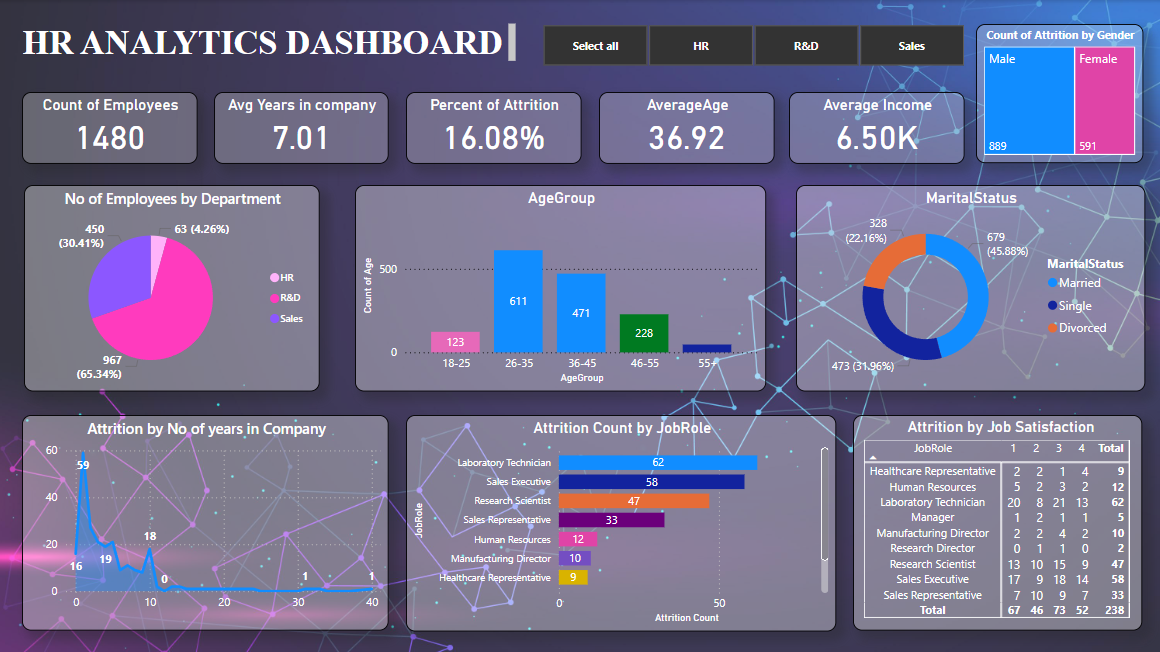

What the dashboard file says about the page in this screenshot:
{"tool":"powerbi","page":{"name":"Page 1","canvas":[1280,720],"ordinal":0},"visuals":[{"type":"textbox","box":[21.1,21.2,552.5,51.6],"z":0},{"type":"slicer","fields":{"Values":["Worksheet.Department"]},"box":[573.2,20.8,511.6,58],"z":1000},{"type":"card","title":"Avg Years in company ","fields":{"Values":["Avg(Worksheet.YearsAtCompany)"]},"box":[236.8,100.6,191.9,78.9],"z":2000},{"type":"card","title":"Percent of Attrition ","fields":{"Values":["Avg(Worksheet.Boolean attrition - Copy)"]},"box":[447.7,100.6,192.8,78.9],"z":3000},{"type":"card","title":"AverageAge ","fields":{"Values":["Avg(Worksheet.Age)"]},"box":[659.5,100.6,192.8,78.9],"z":4000},{"type":"card","title":"Average Income","fields":{"Values":["Avg(Worksheet.MonthlyIncome)"]},"box":[868.3,100.6,192.8,78.9],"z":5000},{"type":"card","title":"Count of Employees","fields":{"Values":["CountNonNull(Worksheet.EmpID)"]},"box":[25,100.6,192.8,78.9],"z":6000},{"type":"treemap","fields":{"Values":["CountNonNull(Worksheet.Attrition)"],"Group":["Worksheet.Gender"]},"box":[1073.8,26.6,183.5,152.5],"z":7000},{"type":"pieChart","title":"No of Employees by Department","fields":{"Series":["Worksheet.Department"],"Y":["CountNonNull(Worksheet.EmpID)"]},"box":[27.5,203.1,324.5,227],"z":8000},{"type":"columnChart","title":"AgeGroup","fields":{"Category":["Worksheet.AgeGroup"],"Series":["Worksheet.AgeGroup"],"Y":["CountNonNull(Worksheet.Age)"]},"box":[391,203.1,452.2,227],"z":9000},{"type":"donutChart","title":"MaritalStatus","fields":{"Category":["Worksheet.MaritalStatus"],"Y":["CountNonNull(Worksheet.EmpID)"]},"box":[876.1,203.1,383.9,227],"z":10000},{"type":"areaChart","title":"Attrition by No of years in Company ","fields":{"Y":["Sum(Worksheet.Boolean attrition)"],"Category":["Worksheet.YearsAtCompany"]},"box":[24.8,456.7,403.4,236.7],"z":11000},{"type":"barChart","title":"Attrition Count by JobRole","fields":{"Category":["Worksheet.JobRole"],"Y":["Sum(Worksheet.Boolean attrition)"],"Series":["Worksheet.JobRole"]},"box":[447.8,456.7,473.5,237.6],"z":12000},{"type":"pivotTable","title":"Attrition by Job Satisfaction ","fields":{"Rows":["Worksheet.JobRole"],"Columns":["Worksheet.JobSatisfaction"],"Values":["Sum(Worksheet.Boolean attrition)"]},"box":[939,456.7,318.3,236.7],"z":13000}]}

Visuals, with their boxes in screenshot pixels (x1, y1, x2, y2), scaled from the page's 1280x720 canvas onto the 1160x652 screenshot:
textbox: [x1=19, y1=19, x2=520, y2=66]
slicer - Worksheet.Department: [x1=519, y1=19, x2=983, y2=71]
"Avg Years in company " card: [x1=215, y1=91, x2=389, y2=163]
"Percent of Attrition " card: [x1=406, y1=91, x2=580, y2=163]
"AverageAge " card: [x1=598, y1=91, x2=772, y2=163]
"Average Income" card: [x1=787, y1=91, x2=962, y2=163]
"Count of Employees" card: [x1=23, y1=91, x2=197, y2=163]
treemap - CountNonNull(Worksheet.Attrition) x Worksheet.Gender: [x1=973, y1=24, x2=1139, y2=162]
"No of Employees by Department" pieChart: [x1=25, y1=184, x2=319, y2=389]
"AgeGroup" columnChart: [x1=354, y1=184, x2=764, y2=389]
"MaritalStatus" donutChart: [x1=794, y1=184, x2=1142, y2=389]
"Attrition by No of years in Company " areaChart: [x1=22, y1=414, x2=388, y2=628]
"Attrition Count by JobRole" barChart: [x1=406, y1=414, x2=835, y2=629]
"Attrition by Job Satisfaction " pivotTable: [x1=851, y1=414, x2=1139, y2=628]
